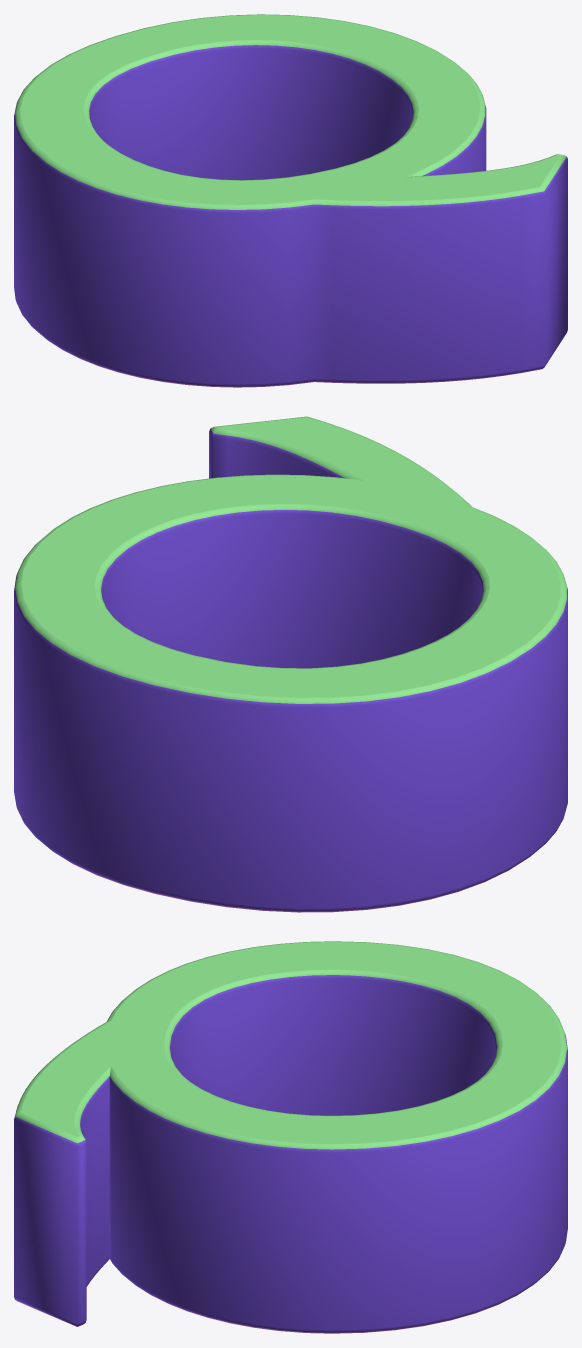
The model's file is letter_Q.fbx.
The picture shows the model from 3 angles, top to bottom: view 1: azimuth 30°, elevation 25°; view 2: azimuth 150°, elevation 25°; view 3: azimuth 270°, elevation 25°; orthographic projection. The views are drawn at different scales.
Visible parts, largest first — view 1: Letter_Q; view 2: Letter_Q; view 3: Letter_Q.
Boxes of the visible parts, box(x1,y1,x2,y2) form: Letter_Q: box(14, 14, 567, 387); Letter_Q: box(14, 416, 567, 912); Letter_Q: box(14, 941, 567, 1333).
Size of the model in its own units: 75.5 by 32 by 85.05.
